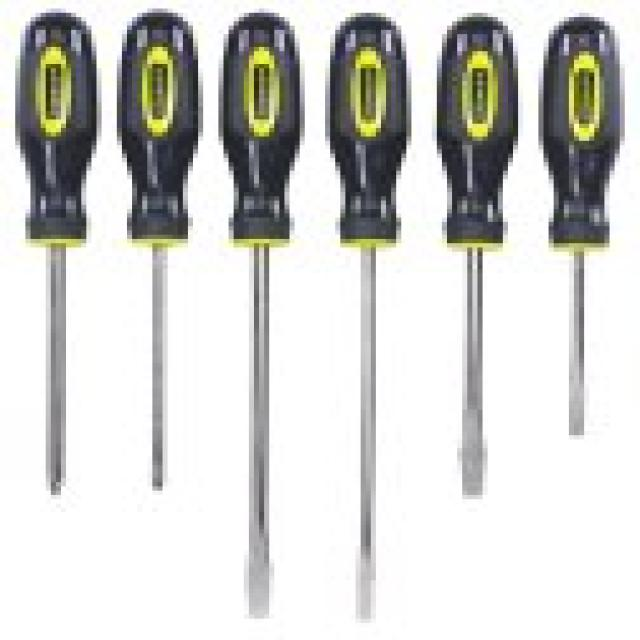screw driver: (0, 0, 107, 518)
